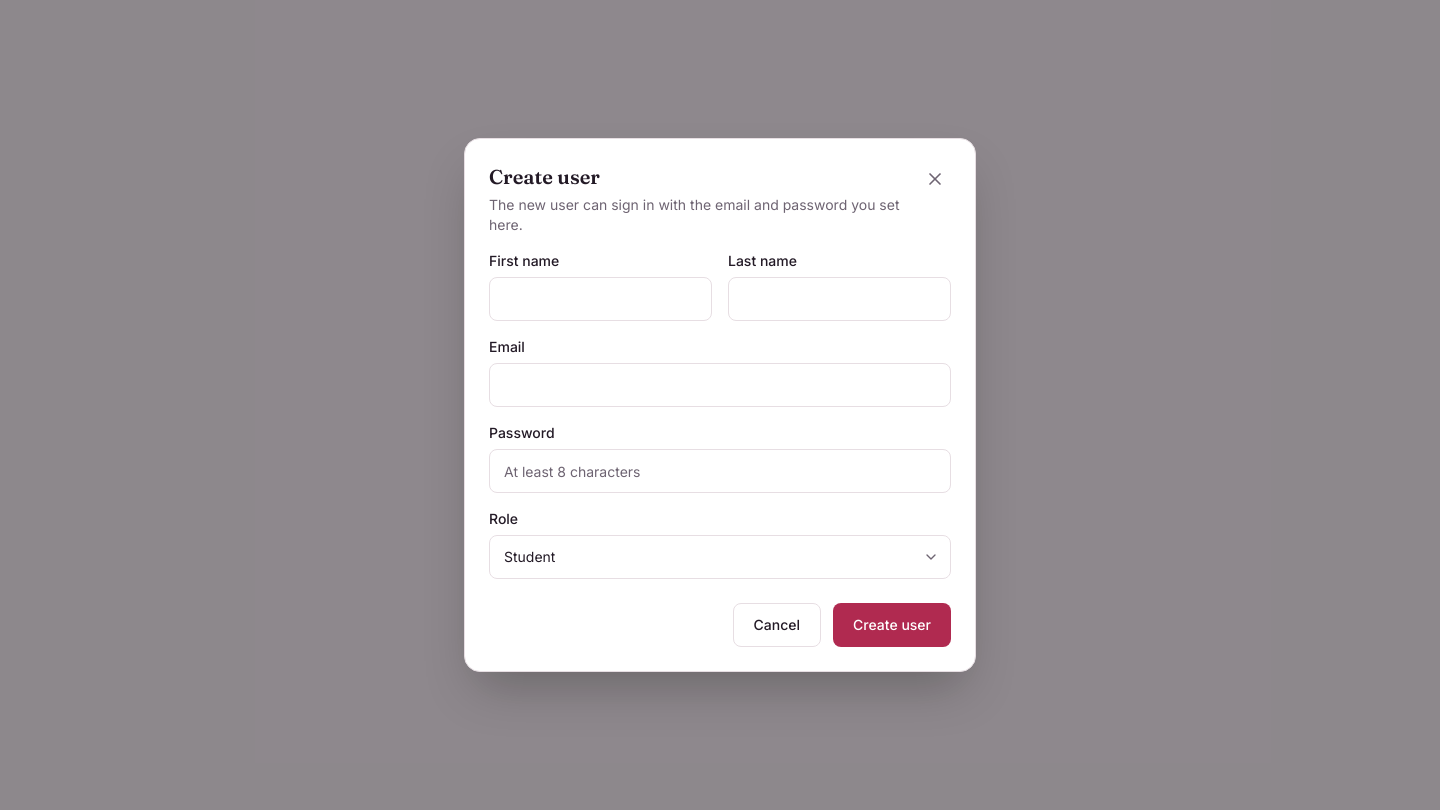
Test: UserFormModal › surfaces a server error message in the form
The width and height of the screenshot is (1440, 810).
Step 1. Type "Dup" into the field labelled "First name" → (600, 299), box x1=489 y1=277 x2=712 y2=321
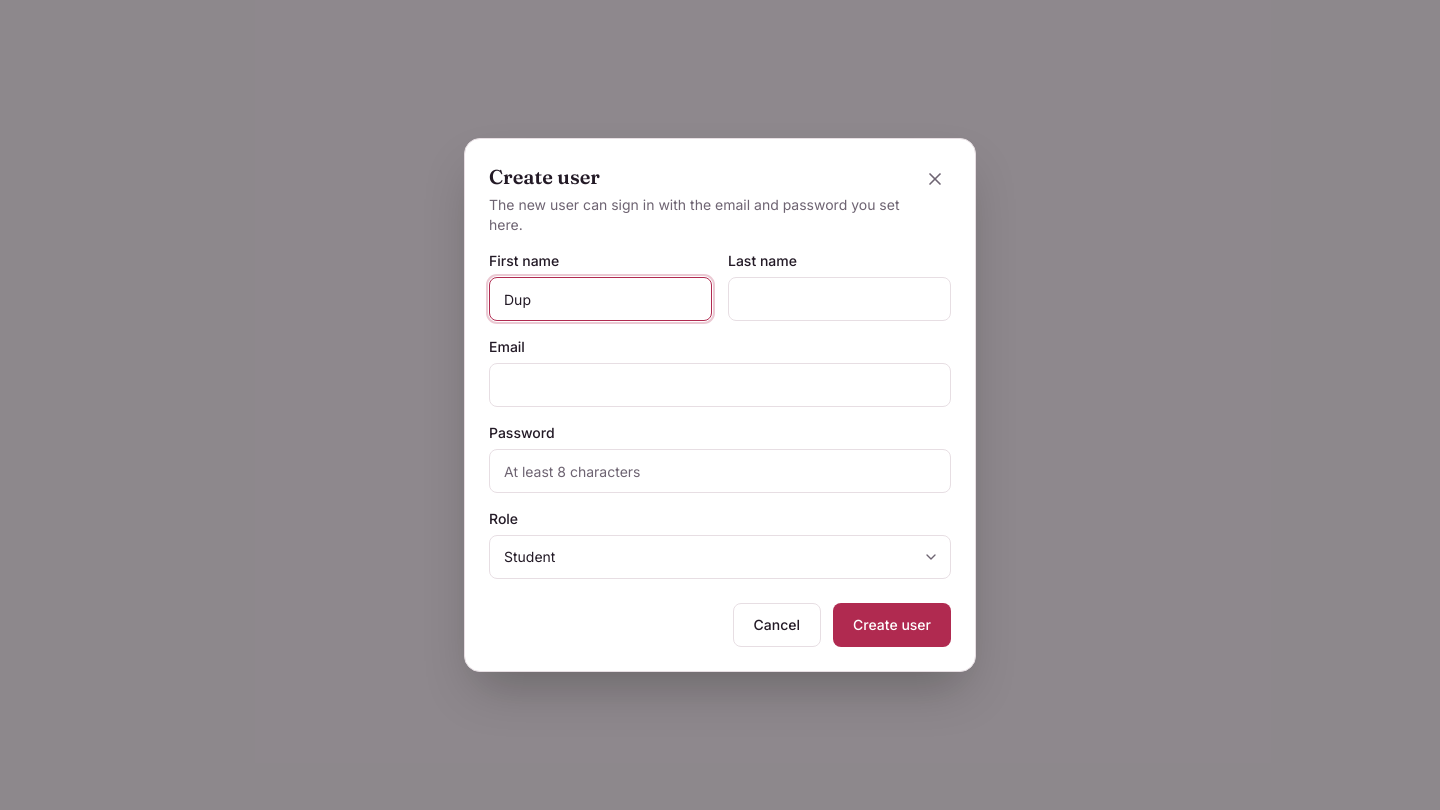
Step 2. Type "Licate" into the field labelled "Last name" → (840, 299), box x1=728 y1=277 x2=951 y2=321
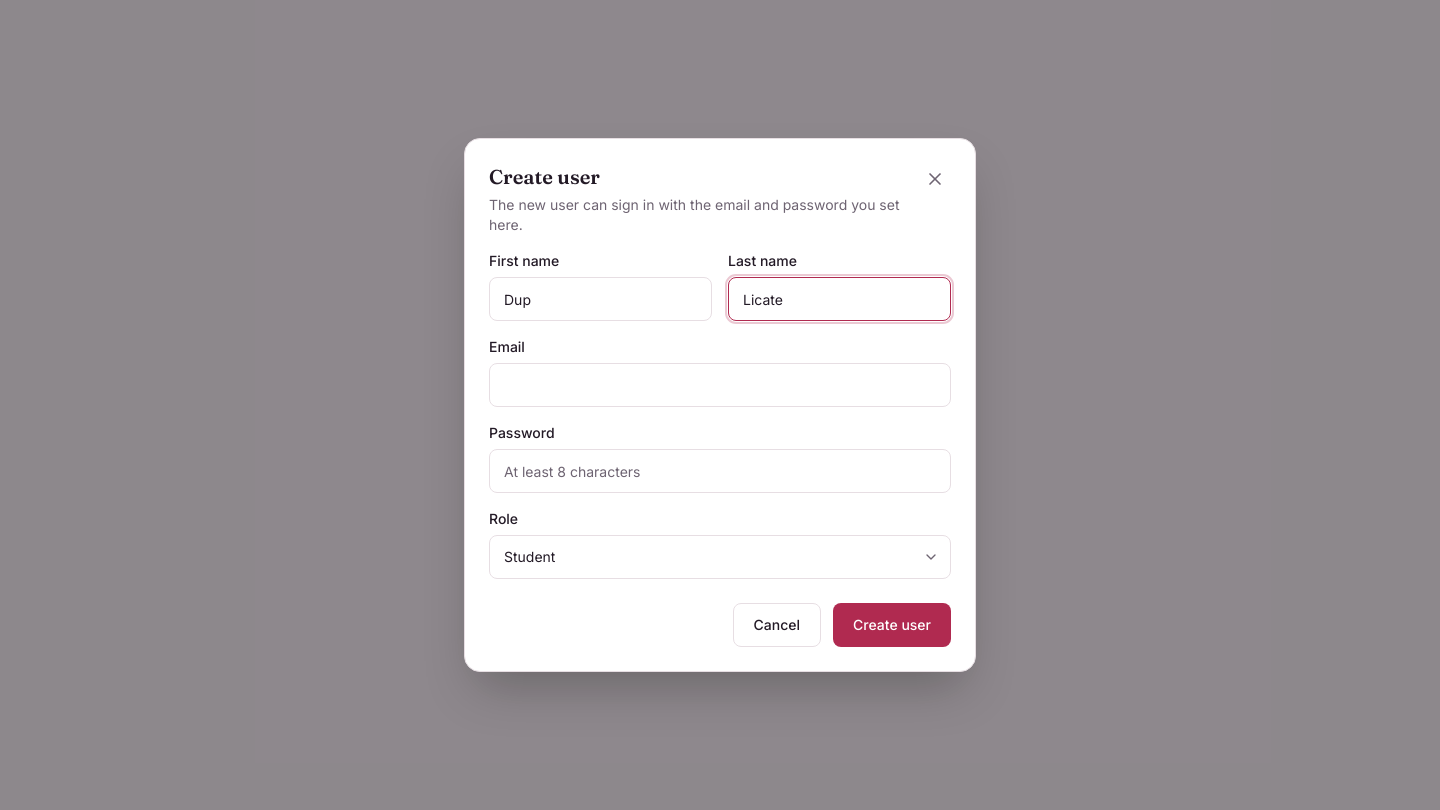
Step 3. Type "dup@example.com" into the field labelled "Email" → (720, 385), box x1=489 y1=363 x2=951 y2=407
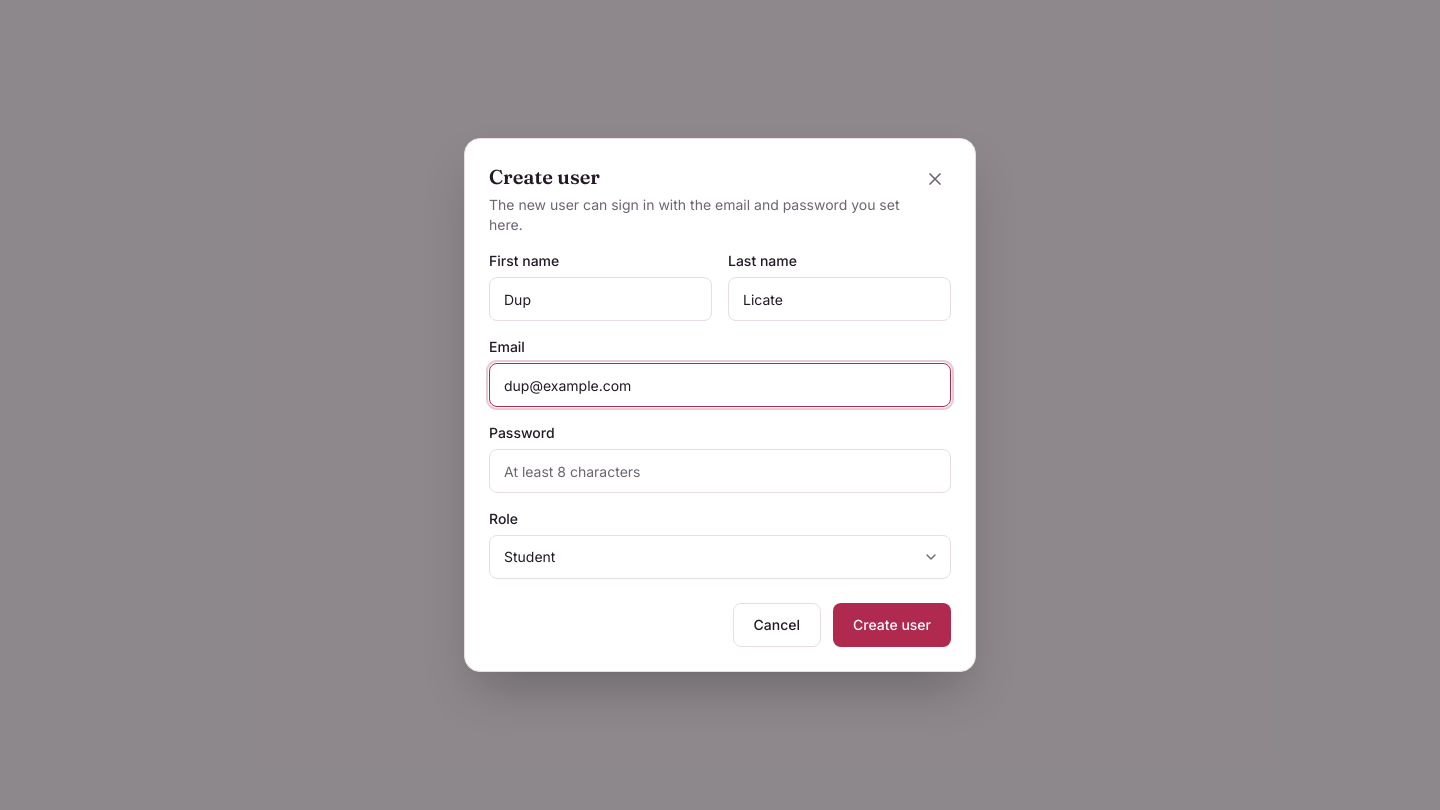
Step 4. Type "long-enough-password" into the password field labelled "Password" → (720, 471), box x1=489 y1=449 x2=951 y2=493
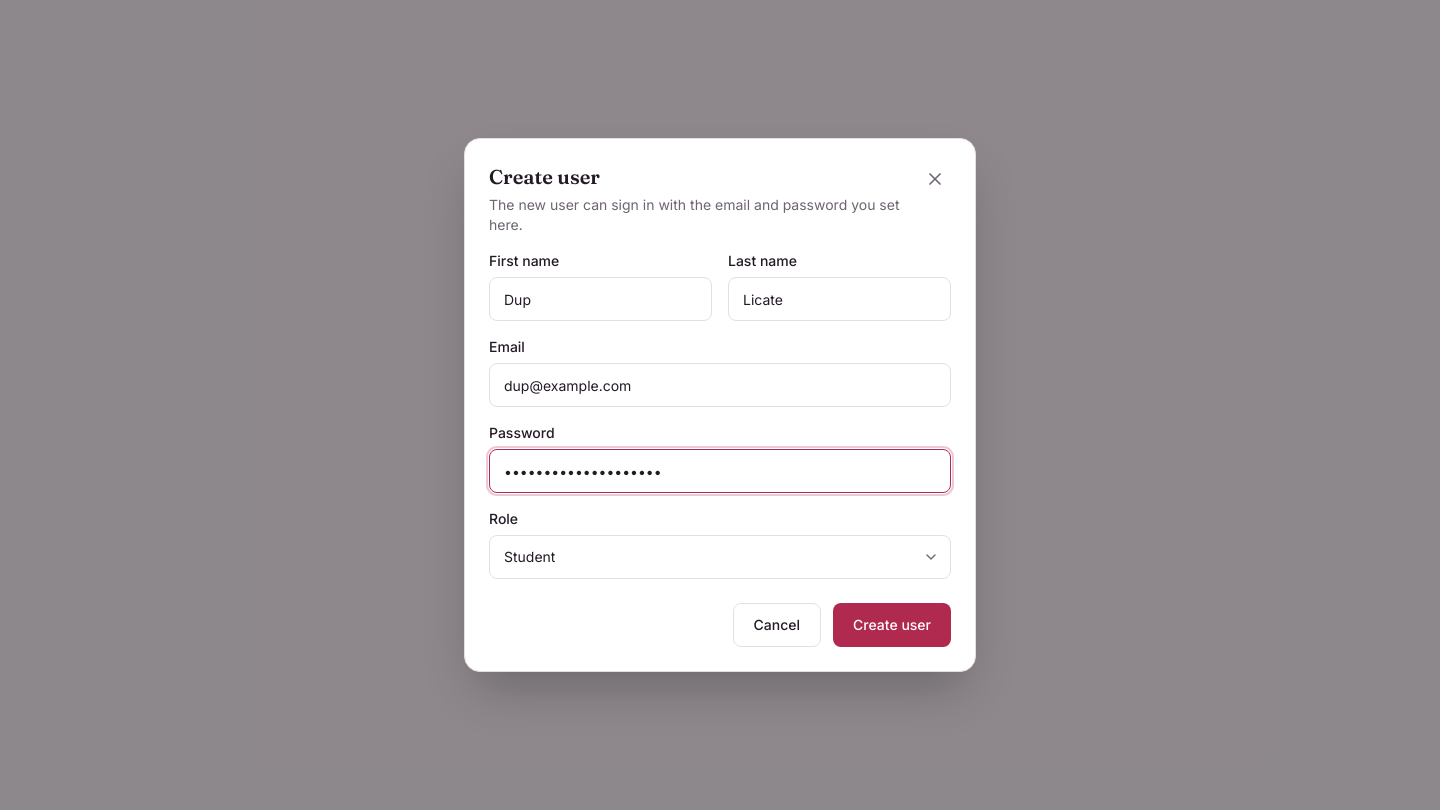
Step 5. Click the button "Create user" → (892, 625), box x1=833 y1=603 x2=951 y2=647
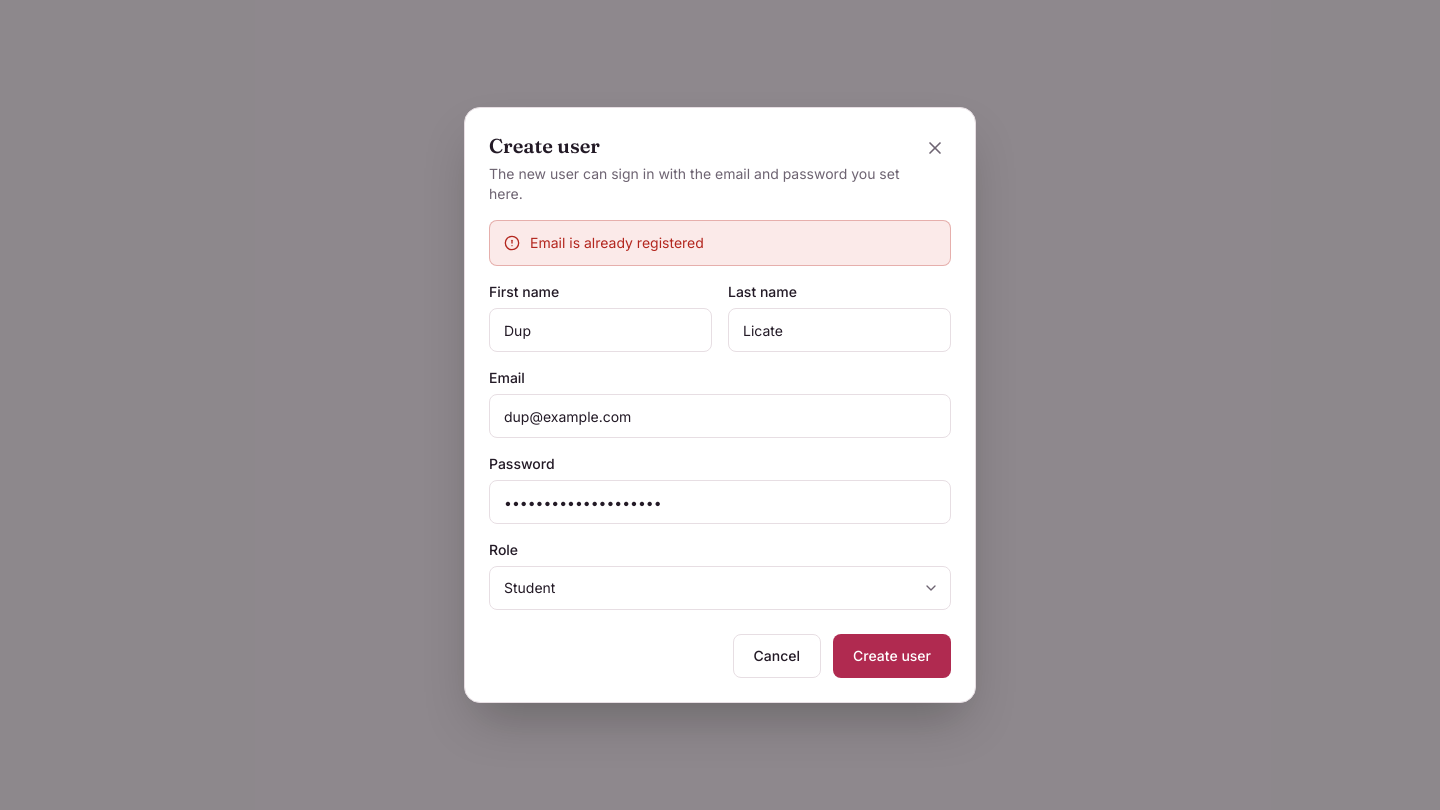
Expected: the text "Email is already registered" is shown, x1=530 y1=233 x2=704 y2=253
